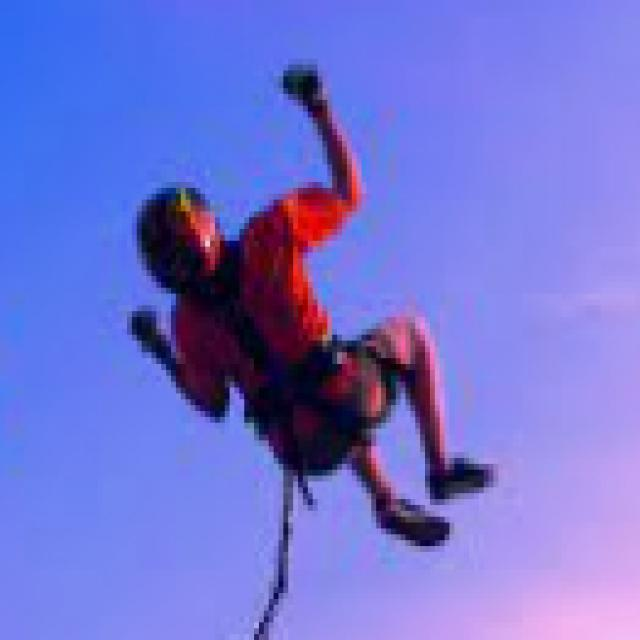fall: (117, 58, 511, 550)
